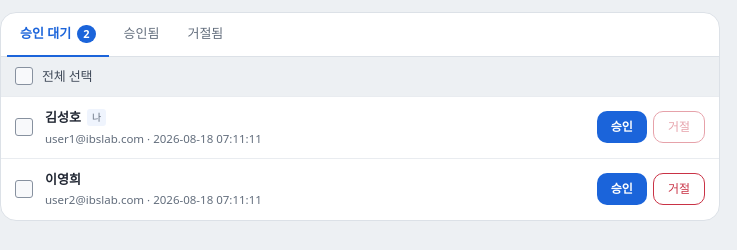
UserApprovalList › 본인이 선택에 들어 있으면 일괄 거절을 막고 이유를 알린다
Expected: the text "이영희" is shown, left=45, top=170, right=81, bottom=188
Click the 1st checkbox labelled "전체 선택" at (54, 76), box left=15, top=66, right=92, bottom=86
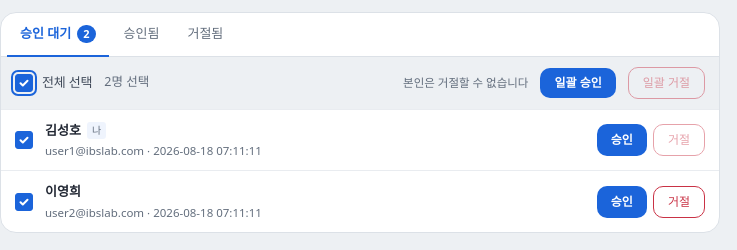
Result: the button "일괄 거절" is disabled at left=628, top=66, right=705, bottom=98
Result: the button "일괄 승인" is enabled at left=540, top=68, right=616, bottom=98
Result: the text "본인은 거절할 수 없습니다" is shown at left=403, top=74, right=528, bottom=91
